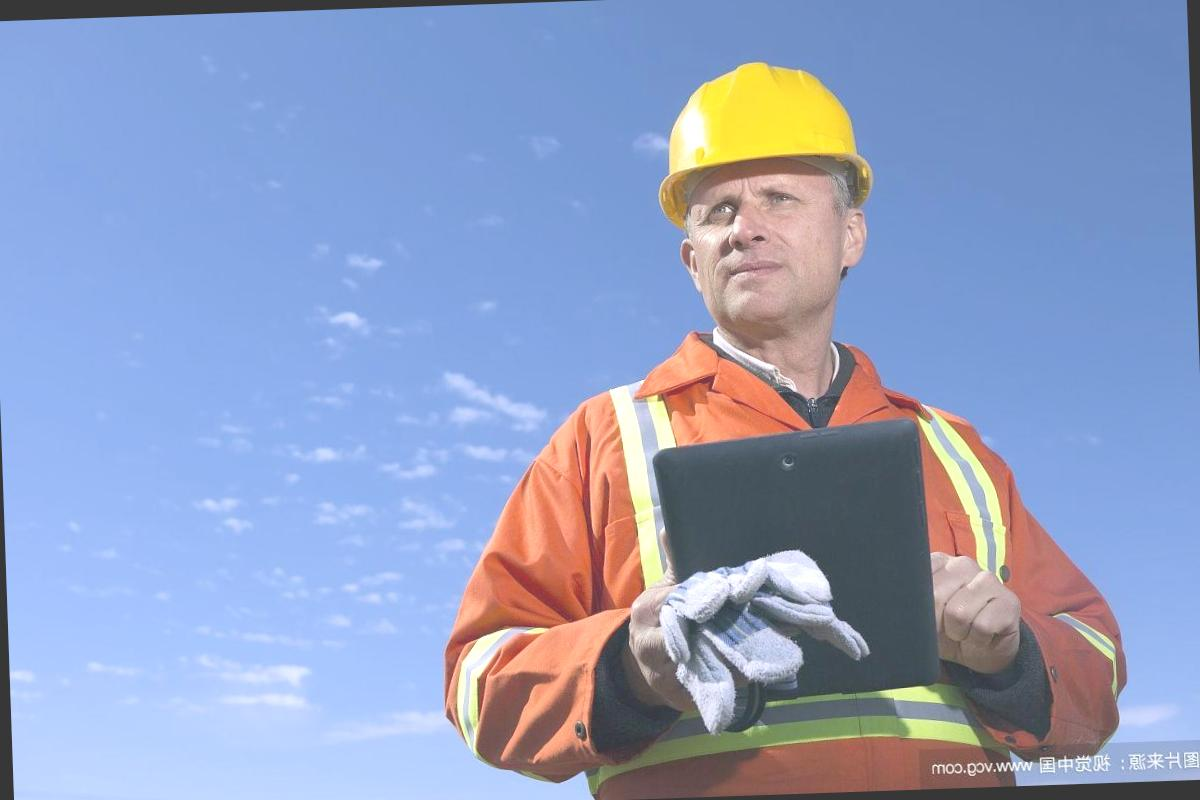helmet: (647, 54, 878, 199)
person: (419, 42, 1136, 800)
